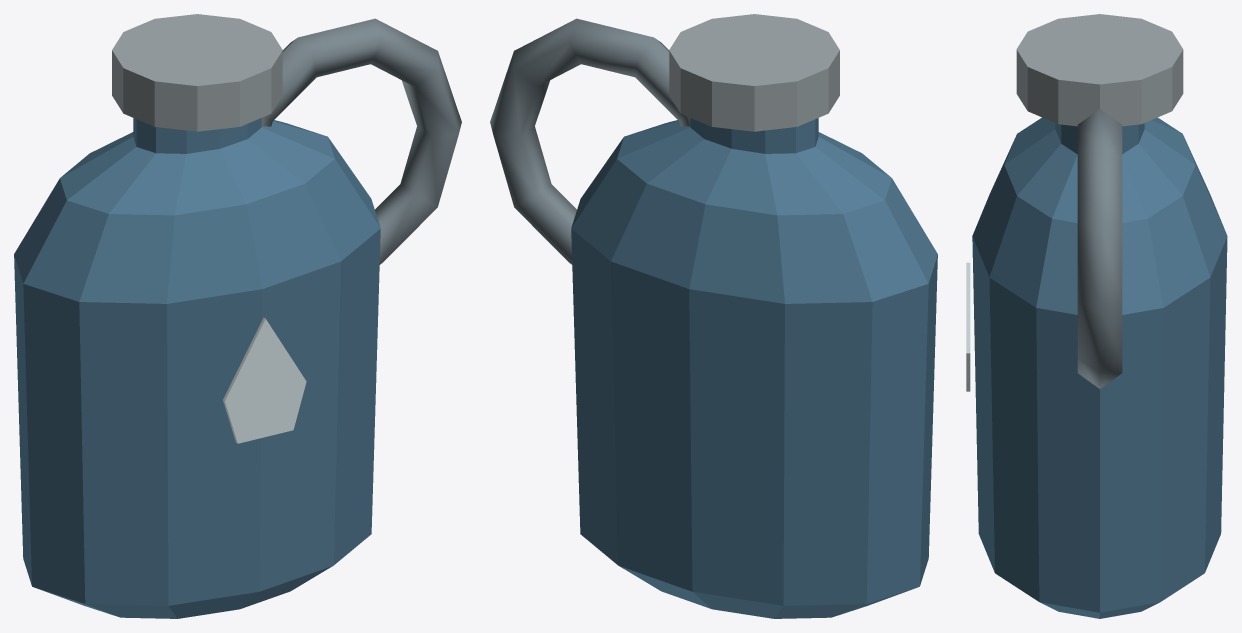
The model's file is Water_Jug.fbx.
3 views of the same model, side by side, from view 1: azimuth 30°, elevation 25°; view 2: azimuth 150°, elevation 25°; view 3: azimuth 270°, elevation 25° (orthographic). The views are drawn at different scales.
Parts seen in each view (by area): view 1: Water_Jug; view 2: Water_Jug; view 3: Water_Jug.
Boxes of the visible parts, x1,y1,x2,y2 form: Water_Jug: [14, 14, 461, 618]; Water_Jug: [490, 14, 937, 618]; Water_Jug: [966, 14, 1227, 618].
Size of the model in its own units: 50.4 by 58 by 26.6.
